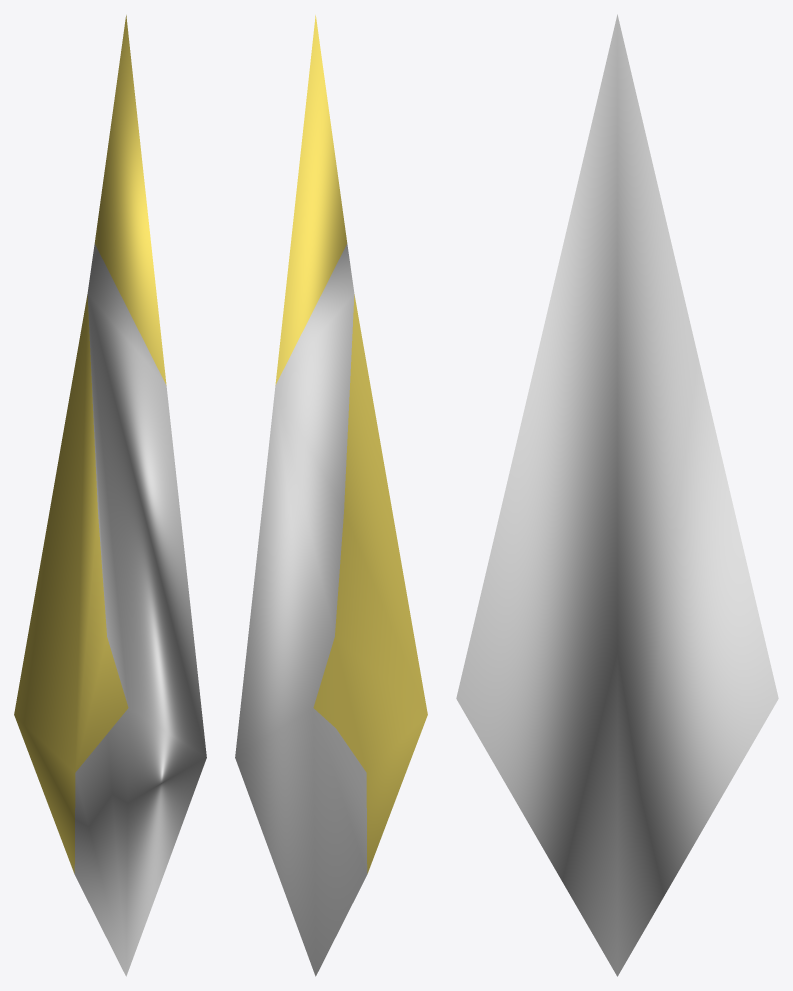
File: CompassNorth.fbx
The picture shows the model from 3 angles, left to right: view 1: azimuth 30°, elevation 25°; view 2: azimuth 150°, elevation 25°; view 3: azimuth 270°, elevation 25°; orthographic projection.
Visible parts, largest first — view 1: Cube; view 2: Cube; view 3: Cube.
Part boxes in pixels (x1,y1,x2,y2): Cube: [14, 15, 206, 976]; Cube: [235, 15, 427, 976]; Cube: [456, 14, 778, 976].
Size of the model in its own units: 8.49 by 69.61 by 21.13.
